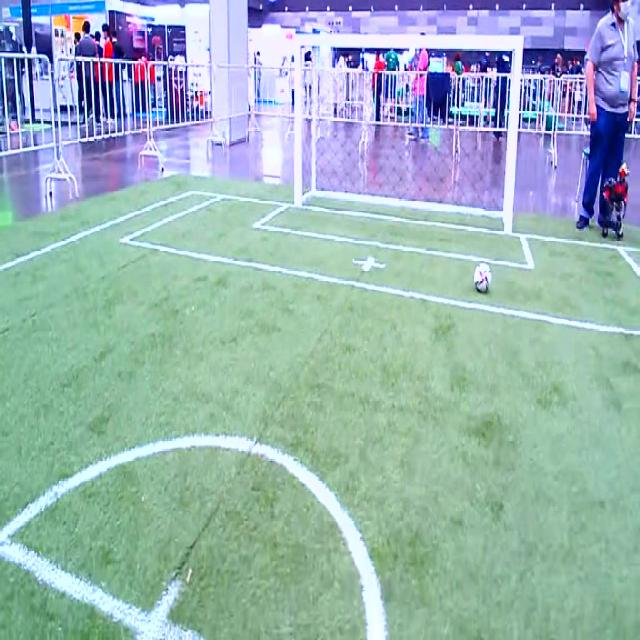ball: (474, 262, 492, 292)
